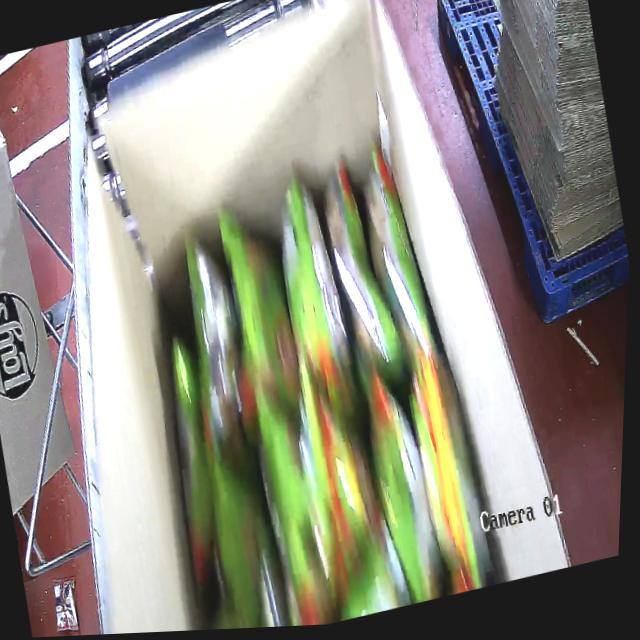YOGURT_HERB: (115, 151, 502, 634)
